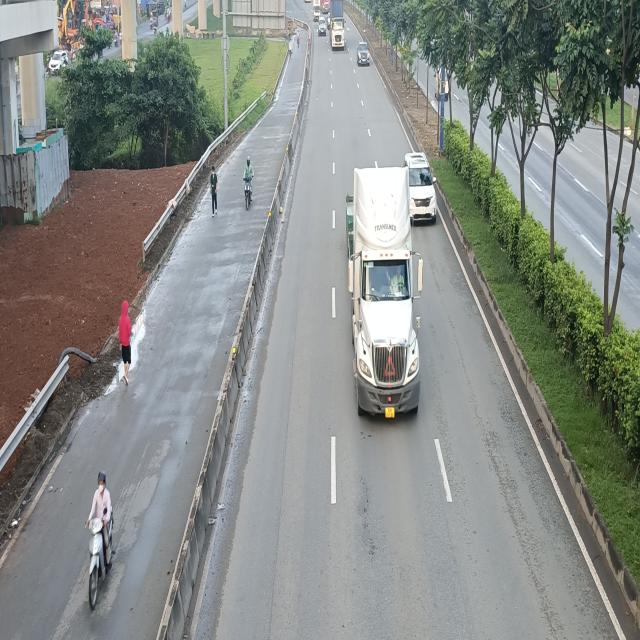car: (405, 151, 438, 225)
container: (348, 168, 427, 423), (332, 7, 347, 52)
